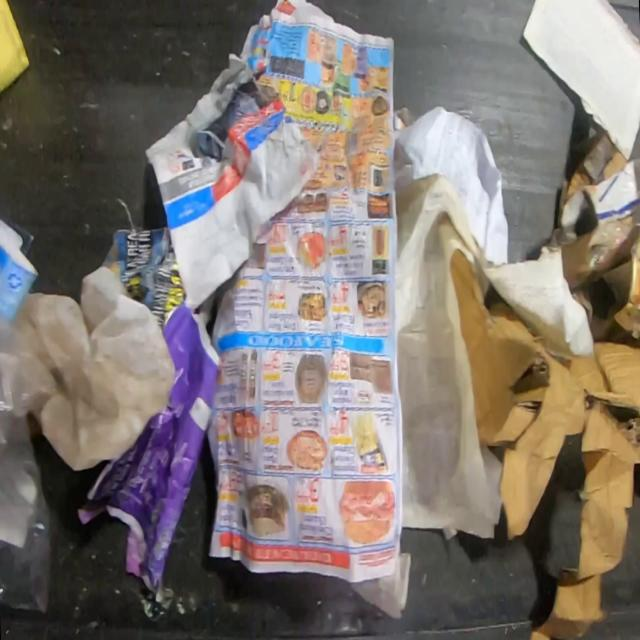cardboard: (450, 247, 640, 639), (600, 147, 627, 179)
soft_plastic: (9, 263, 176, 471), (0, 311, 60, 613)
